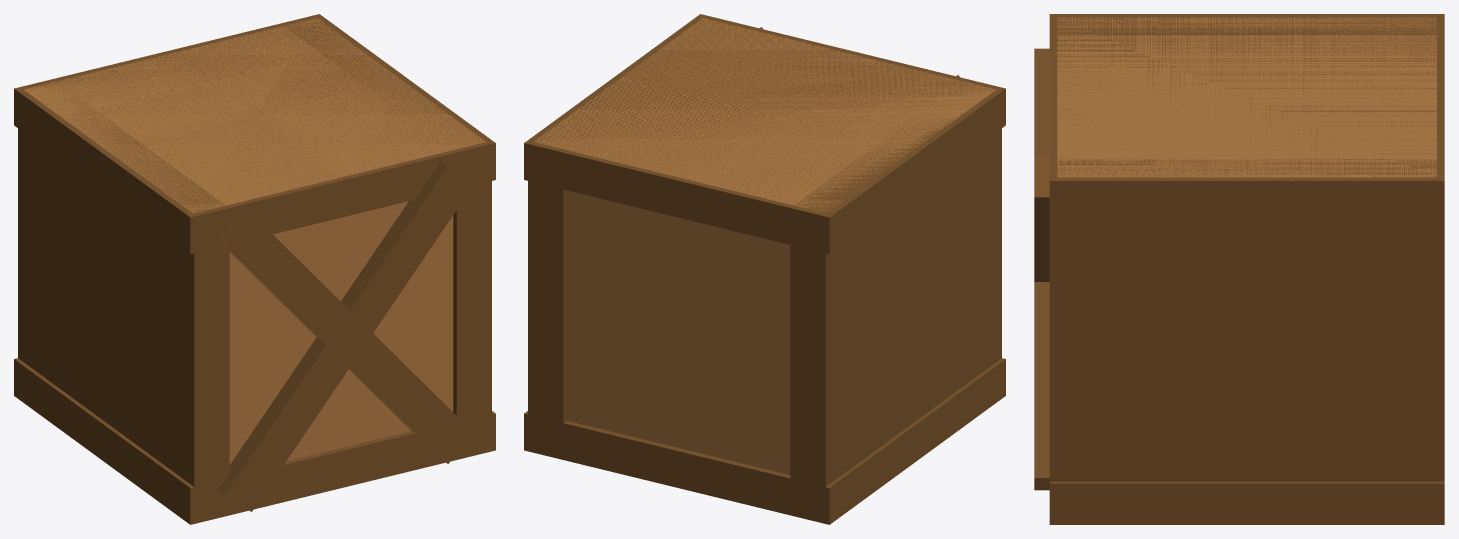
The model's file is prop_crate.glb.
3 renders of one model, left to right at view 1: azimuth 30°, elevation 25°; view 2: azimuth 150°, elevation 25°; view 3: azimuth 270°, elevation 25°, orthographic. The views are drawn at different scales.
Parts seen in each view (by area): view 1: prop_crate; view 2: prop_crate; view 3: prop_crate.
Boxes of the visible parts, left/top/right/bottom form: prop_crate: left=14, top=14, right=495, bottom=524; prop_crate: left=524, top=14, right=1005, bottom=524; prop_crate: left=1034, top=14, right=1444, bottom=524.
Size of the model in its own units: 0.78 by 0.75 by 0.81.
